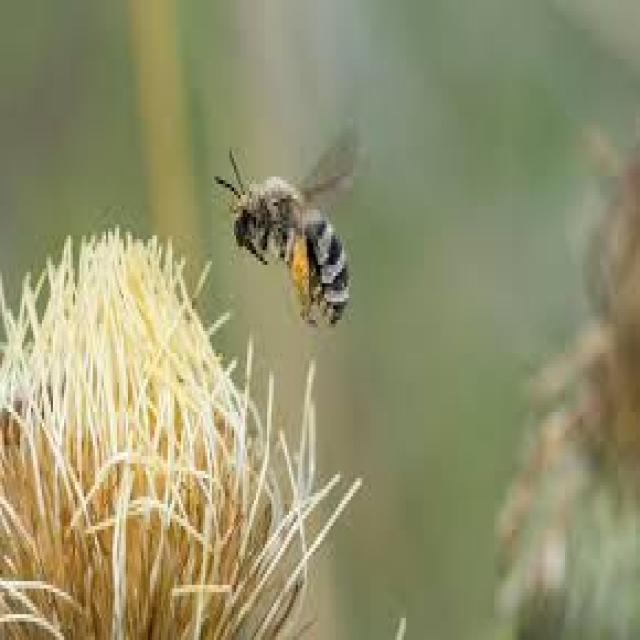Bees: (212, 138, 362, 329)
